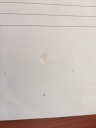Yuvarlak Buskopan: (39, 56, 47, 64)
